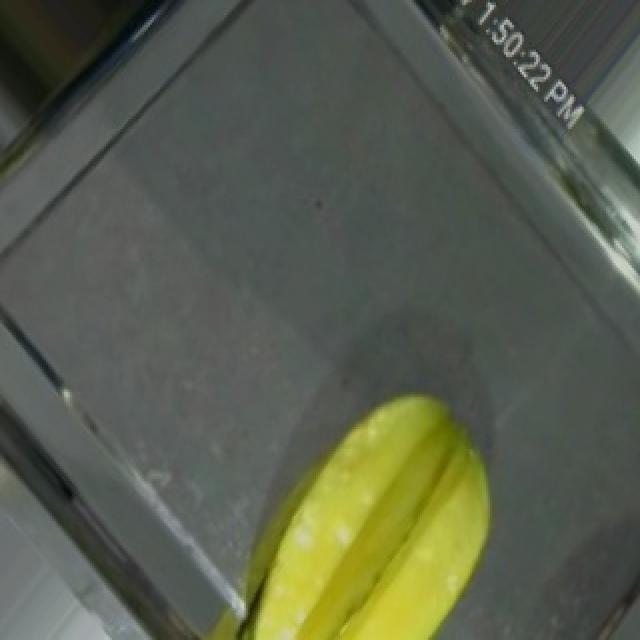fruit: (196, 350, 556, 640)
